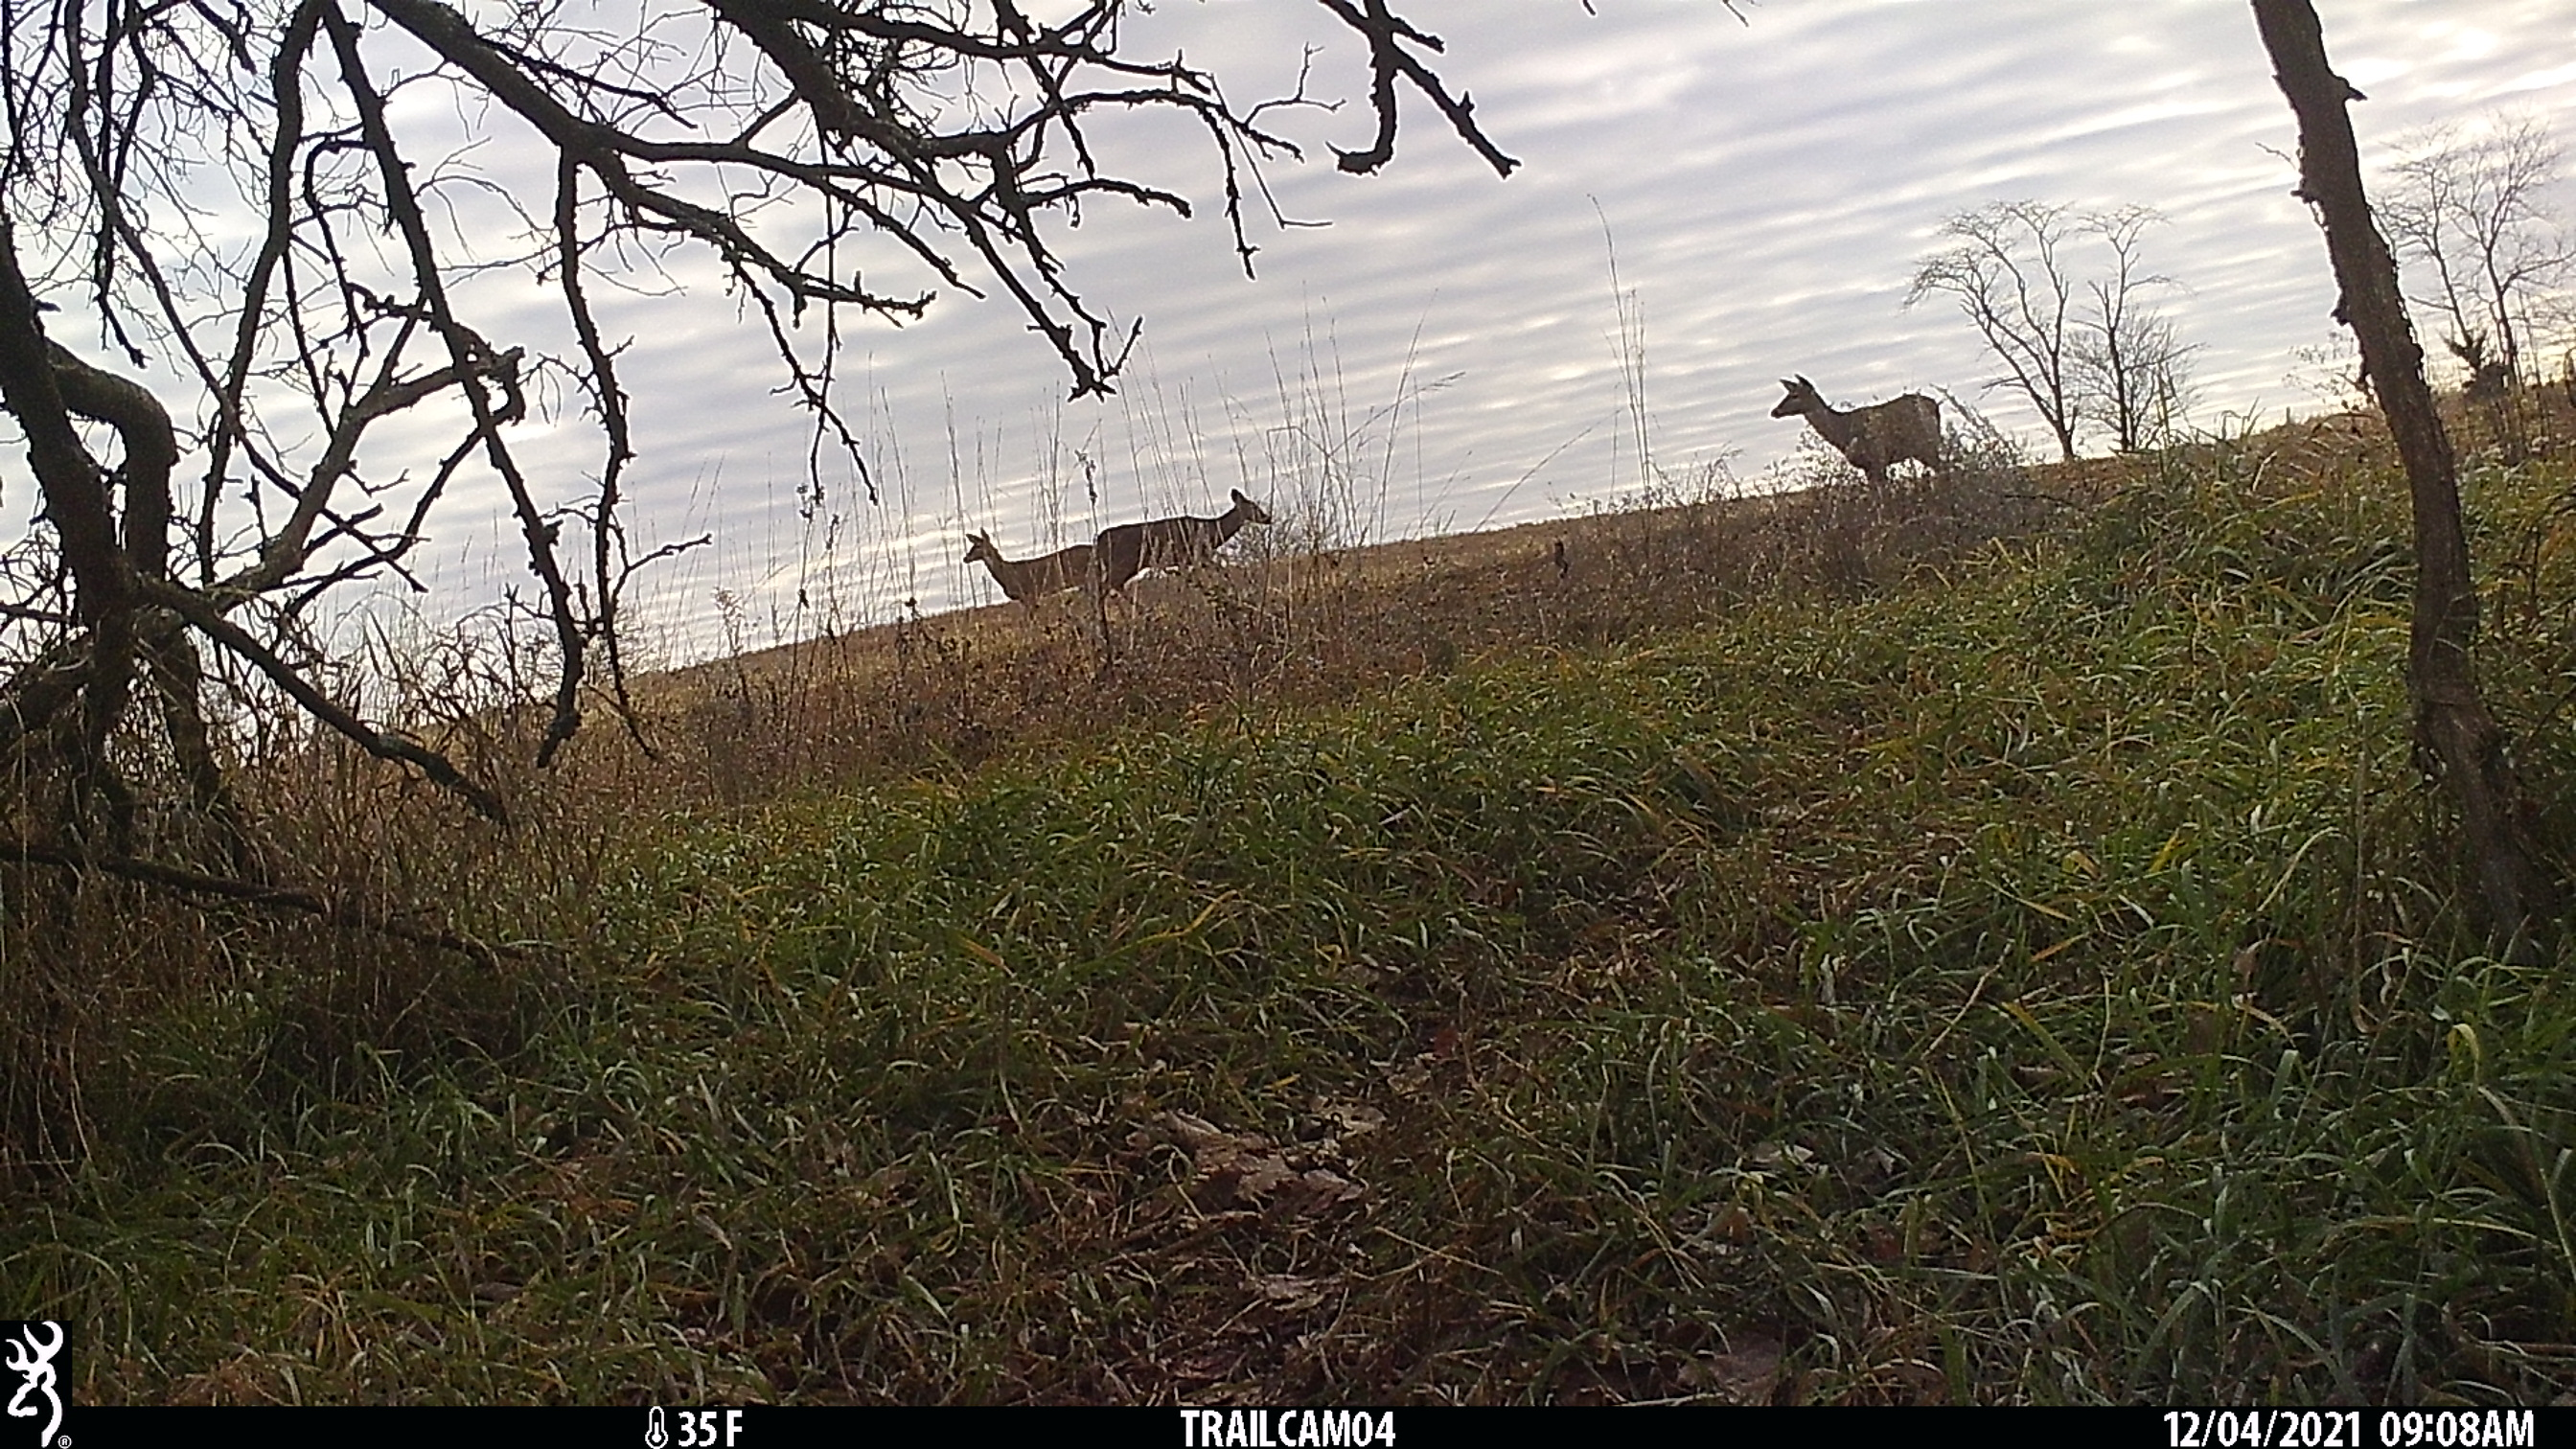Deer: (1766, 375, 1967, 488), (1088, 485, 1272, 596), (961, 520, 1099, 609)
